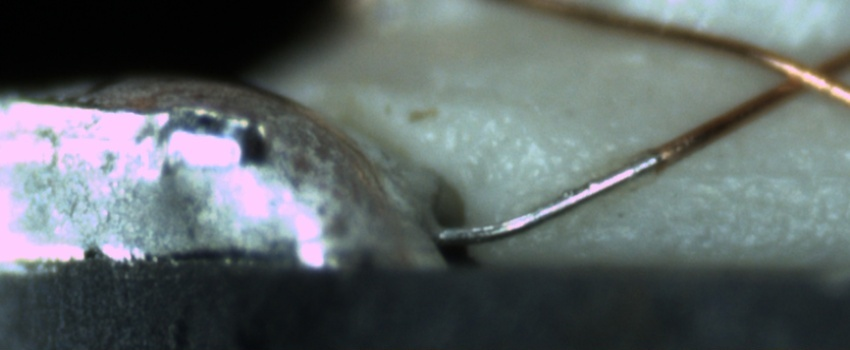CL: (756, 41, 846, 106)
DL: (630, 140, 850, 204)
TS: (440, 148, 658, 245)
